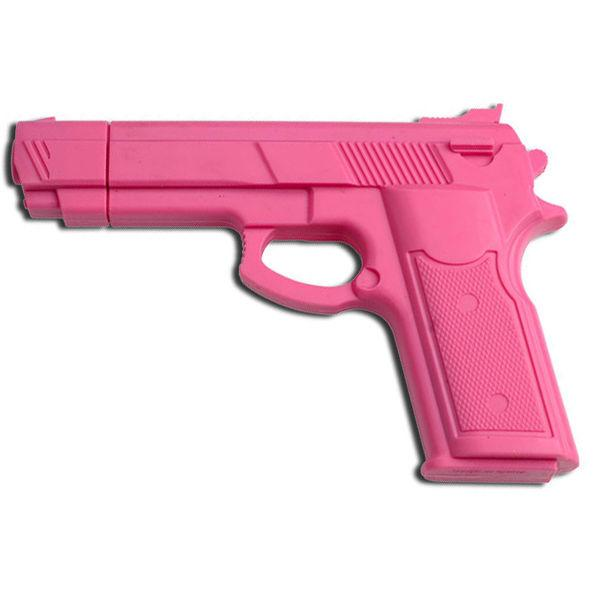Arma Falsa: (8, 99, 586, 490)
